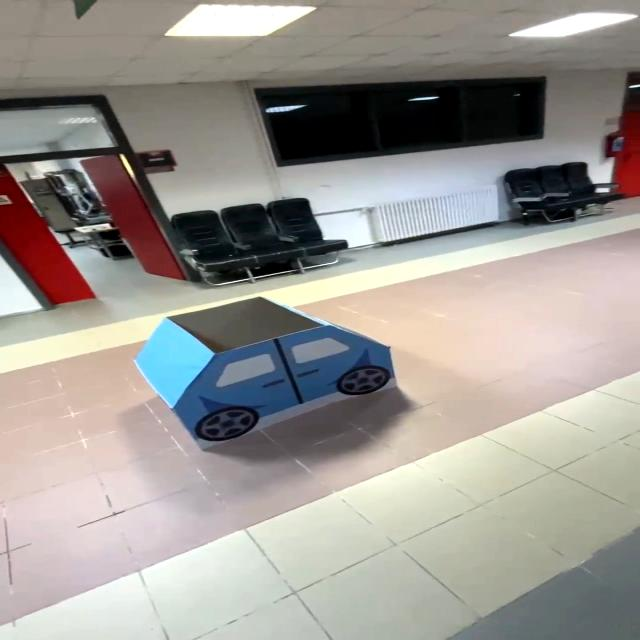blue_car: (125, 294, 418, 453)
